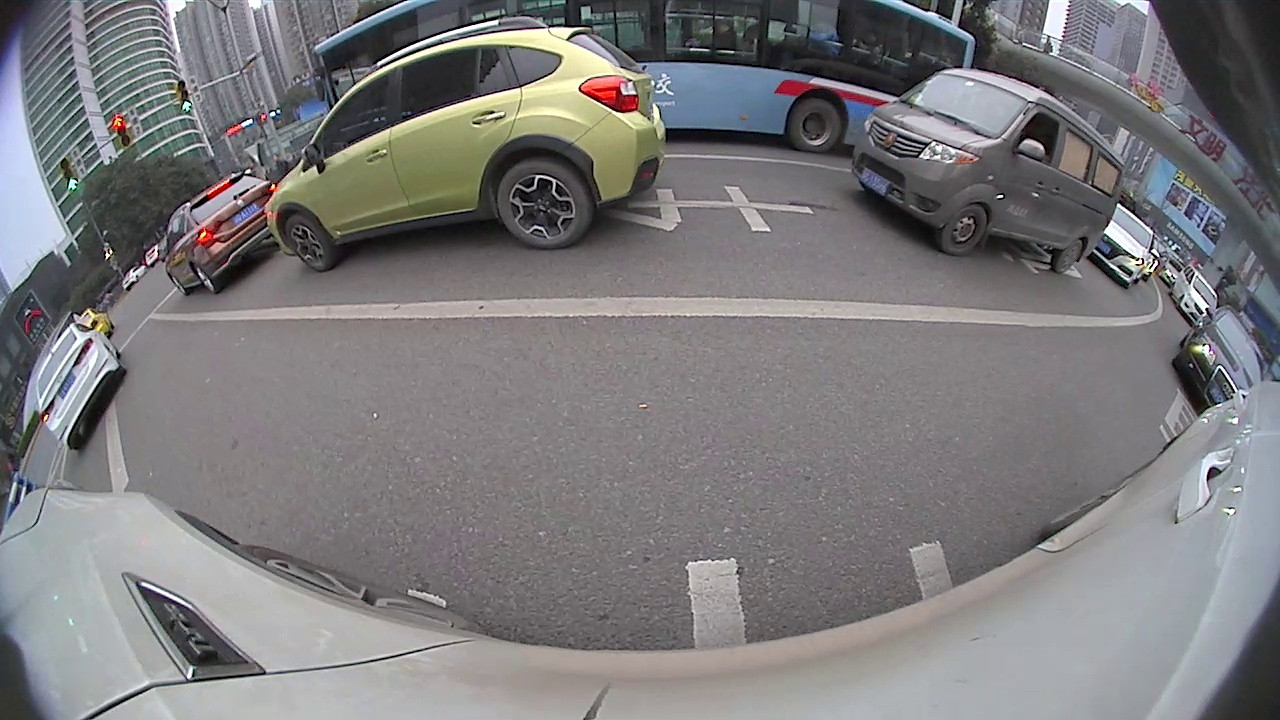bus: (306, 0, 977, 157)
car: (261, 13, 669, 275), (848, 66, 1126, 277), (159, 166, 282, 297), (31, 319, 125, 454), (1172, 301, 1273, 416), (1080, 203, 1157, 289), (1167, 261, 1220, 329)
front: (280, 210, 337, 275), (935, 201, 990, 260)
rear: (492, 155, 597, 253), (785, 95, 847, 157), (1046, 233, 1085, 278)
